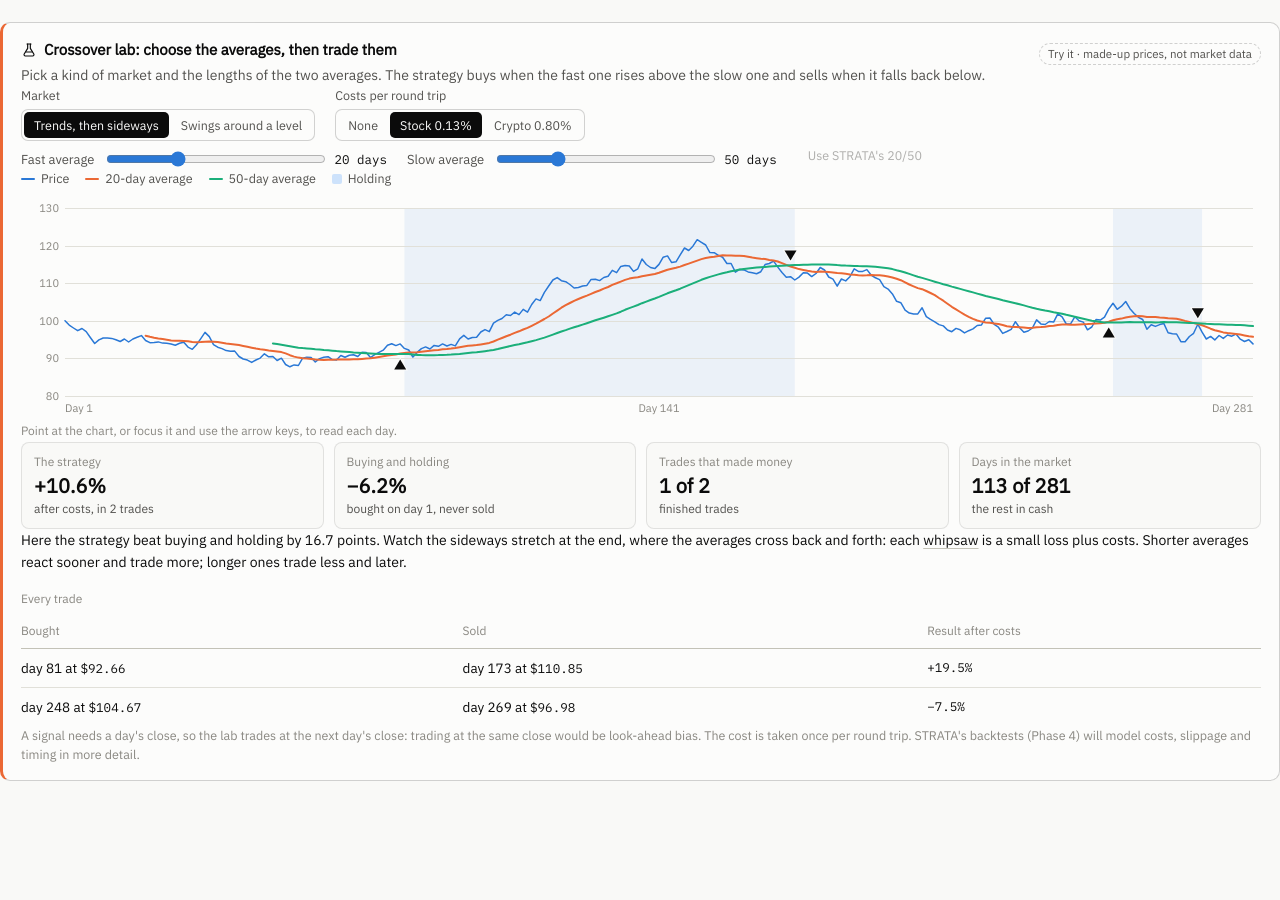
Test: the crossover lab › keeps the slow average longer than the fast one
Set the slider labelled "Fast average" to "60" at (318, 159), box [106,151,326,167]
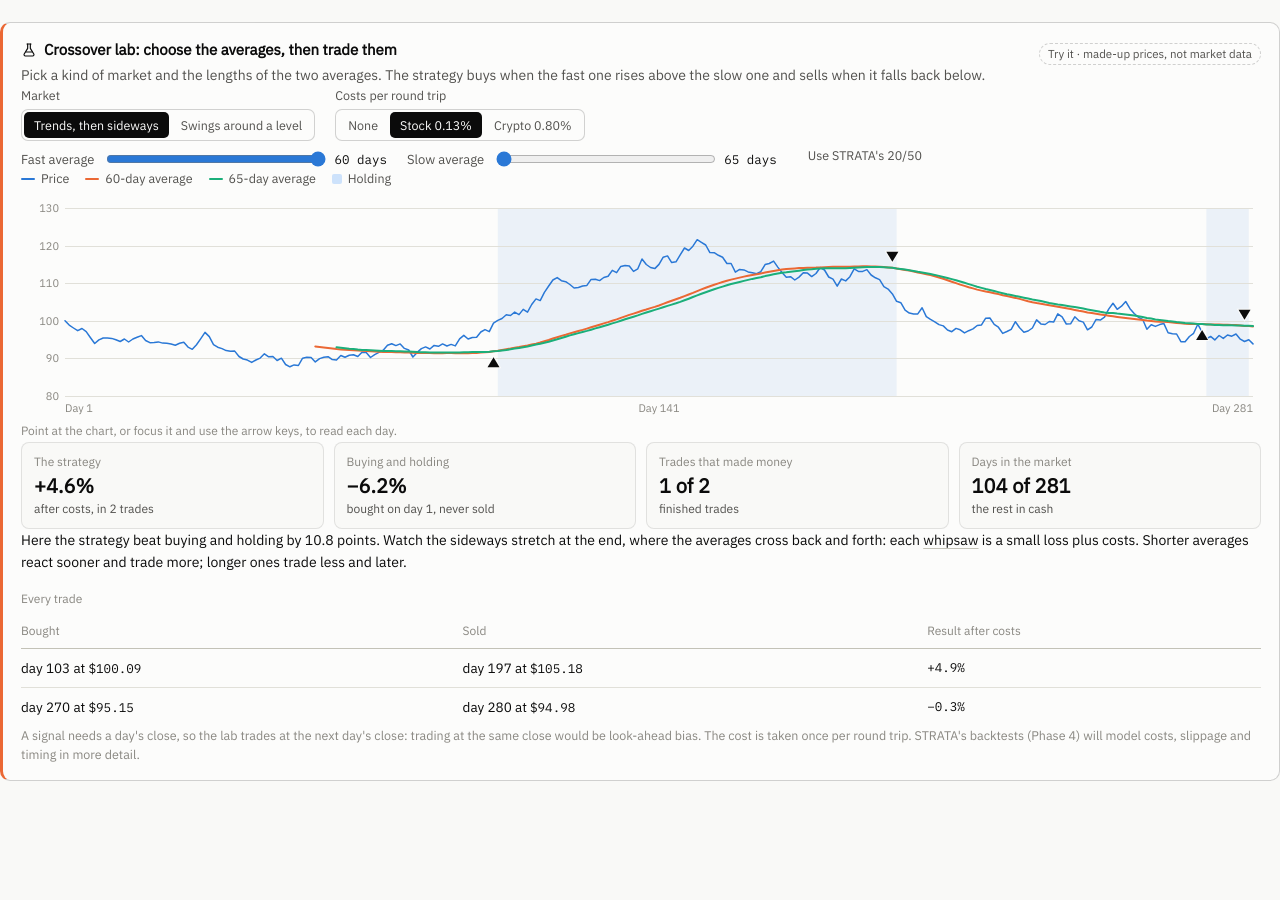
Expected: the slider labelled "Slow average" holds "65", [496,151,716,167]
